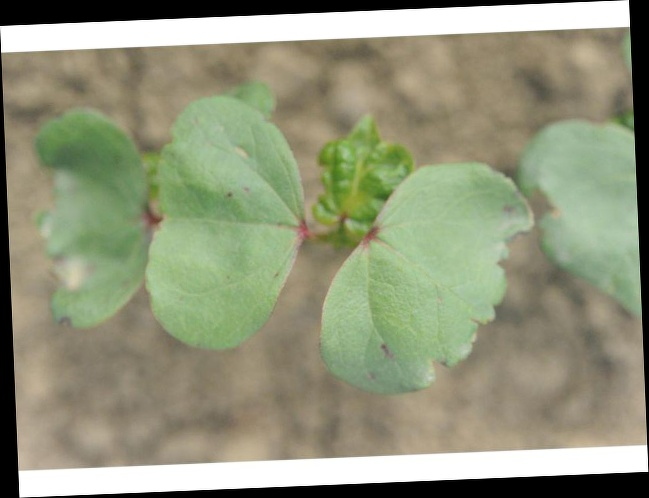cotton: (39, 89, 638, 394)
